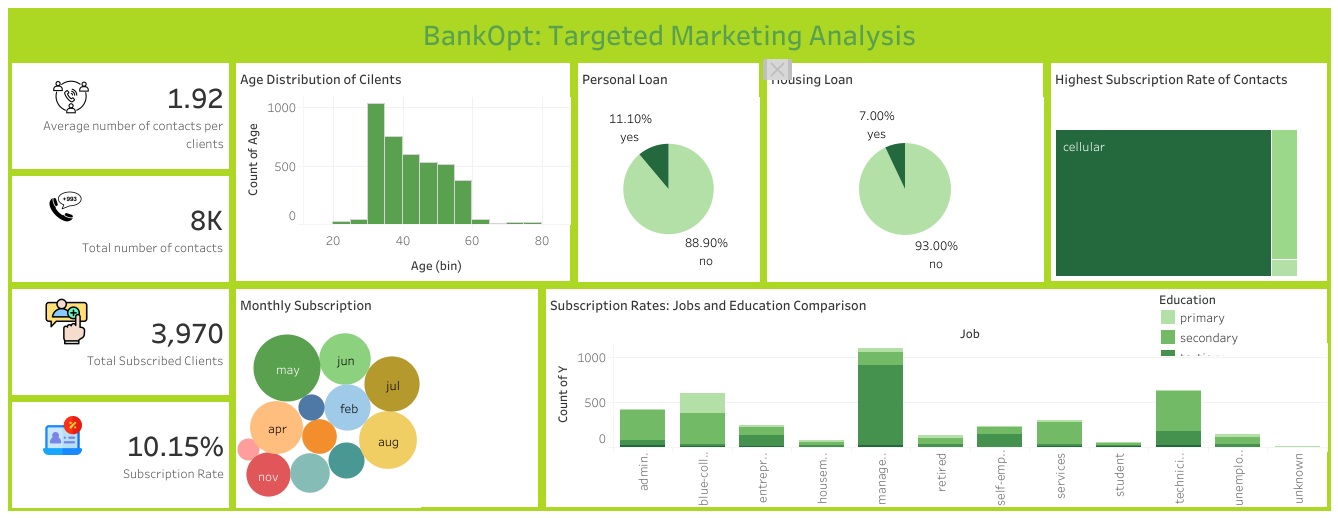

The dashboard page shown, as its layout file describes it:
{"tool":"tableau","page":{"name":"Dashboard 1","canvas":[1000,1000],"units":"permille","ordinal":0},"visuals":[{"type":"text","box":[6.9,13.5,986.1,99.6]},{"type":"worksheet","title":"Average number of contacts per client","mark":"Automatic","box":[6.9,113.1,166.8,218.3]},{"type":"worksheet","title":"1.  What is the age distribution of clients?","mark":"Automatic","rows":["age"],"cols":["Age (bin)"],"box":[173.8,113.1,255,436.7]},{"type":"worksheet","title":"3. How does having a personal loan or housing loan affect the likelihood of subscribing to a term deposit? Personal Loan","mark":"Pie","box":[428.8,113.1,141.1,436.7]},{"type":"worksheet","title":"Housing Loan","mark":"Pie","box":[569.8,113.1,211.6,436.7]},{"type":"worksheet","title":" 6. Which method of contact leads to the highest subscription rates?","mark":"Automatic","box":[781.4,113.1,211.7,436.7]},{"type":"dashboard-object","box":[570.2,113.2,21.1,40.5]},{"type":"image","param":"Image/communication_15223405.png","box":[21.9,126.7,63.2,119.9]},{"type":"worksheet","title":"Total number of contacts","mark":"Automatic","box":[6.9,331.4,166.8,218.3]},{"type":"image","param":"Image/turkmenistan_11977618.png","box":[16.7,351.4,65.8,94.6]},{"type":"worksheet","title":"Total Subscribed Clients","mark":"Automatic","box":[6.9,549.8,166.8,218.3]},{"type":"worksheet","title":"7: In which month are clients most likely to subscribe?","mark":"Circle","box":[173.8,549.8,231.4,436.7]},{"type":"worksheet","title":"Sheet 15","mark":"Automatic","rows":["y"],"cols":["job"],"box":[405.2,549.8,587.9,436.7]},{"type":"legend","title":"Sheet 15","param":"[federated.1ce31ym1c989uc121b1wd13k4oy3].[none:education:nk]","box":[864.9,554.1,122.8,131.8]},{"type":"image","param":"Image/followers_12822832.png","box":[16.7,559.1,66.7,121.6]},{"type":"worksheet","title":"Subscription Rate","mark":"Automatic","box":[6.9,768.1,166.8,218.4]},{"type":"image","param":"Image/online-shop_613583.png","box":[18.4,785.5,56.1,106.4]}]}

Visuals, with their boxes on the dashboard's canvas, which has no fixed pixel size, in thousandths of its width and height (x1, y1, x2, y2). These are canvas units, not pixel positions in the 1338x518 screenshot, which may show the page scaled, cropped or inside an application window:
text: [left=7, top=14, right=993, bottom=113]
"Average number of contacts per client" worksheet: [left=7, top=113, right=174, bottom=331]
"1.  What is the age distribution of clients?" worksheet: [left=174, top=113, right=429, bottom=550]
"3. How does having a personal loan or housing loan affect the likelihood of subscribing to a term deposit? Personal Loan" worksheet (Pie marks): [left=429, top=113, right=570, bottom=550]
"Housing Loan" worksheet (Pie marks): [left=570, top=113, right=781, bottom=550]
" 6. Which method of contact leads to the highest subscription rates?" worksheet: [left=781, top=113, right=993, bottom=550]
dashboard-object: [left=570, top=113, right=591, bottom=154]
image: [left=22, top=127, right=85, bottom=247]
"Total number of contacts" worksheet: [left=7, top=331, right=174, bottom=550]
image: [left=17, top=351, right=82, bottom=446]
"Total Subscribed Clients" worksheet: [left=7, top=550, right=174, bottom=768]
"7: In which month are clients most likely to subscribe?" worksheet (Circle marks): [left=174, top=550, right=405, bottom=986]
"Sheet 15" worksheet: [left=405, top=550, right=993, bottom=986]
"Sheet 15" legend: [left=865, top=554, right=988, bottom=686]
image: [left=17, top=559, right=83, bottom=681]
"Subscription Rate" worksheet: [left=7, top=768, right=174, bottom=986]
image: [left=18, top=786, right=74, bottom=892]
